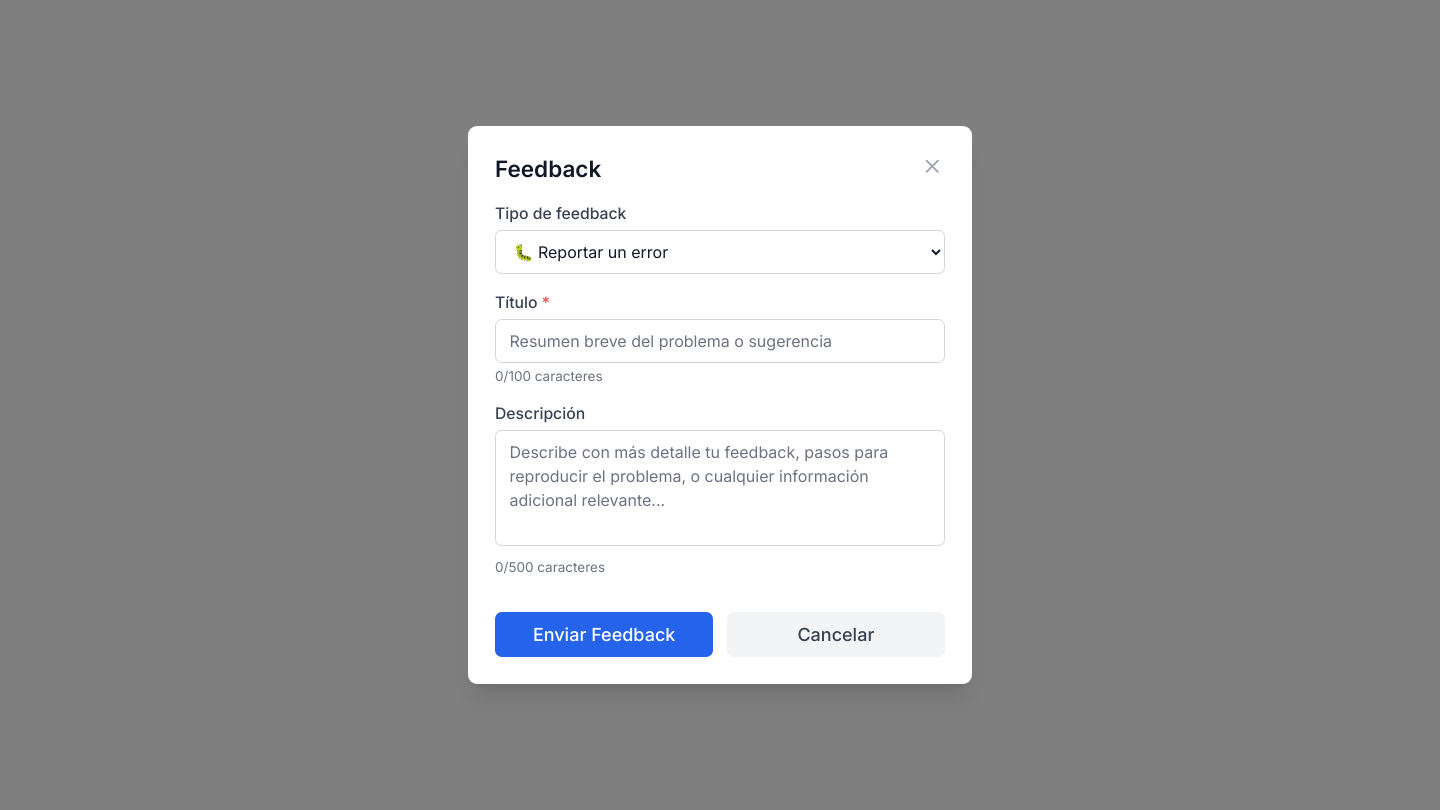
Test: FeedbackModal Integration Tests › Error handling flow › should handle unexpected errors gracefully
Expected: the button "Enviar Feedback" is shown, [495,612,713,657]
Type "Test Title" into the field labelled "Título *". click: [720, 341]
box: [495,319,945,363]
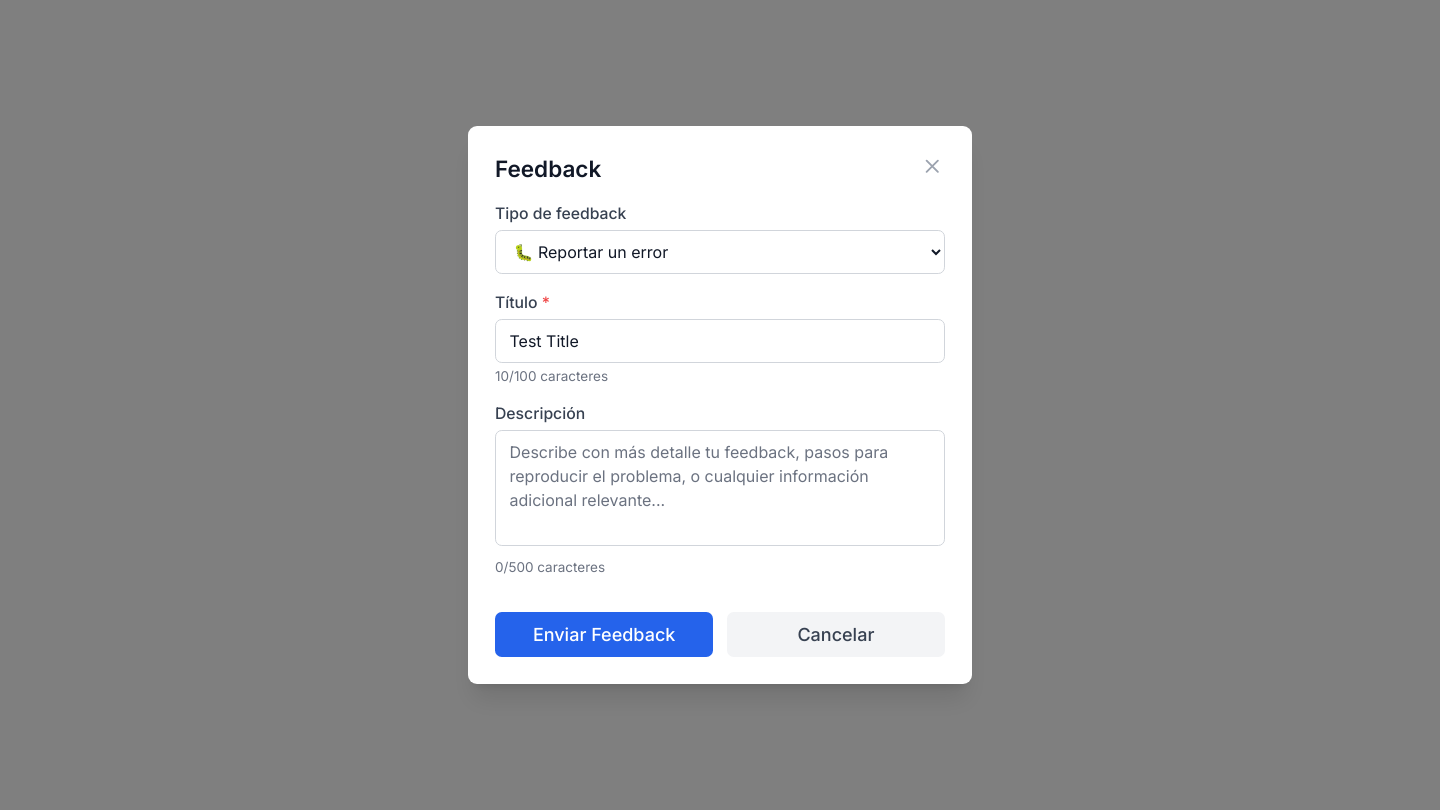
Replace the text in the text box labelled "Descripción" with "Test description". click: [720, 488]
box: [495,430,945,546]
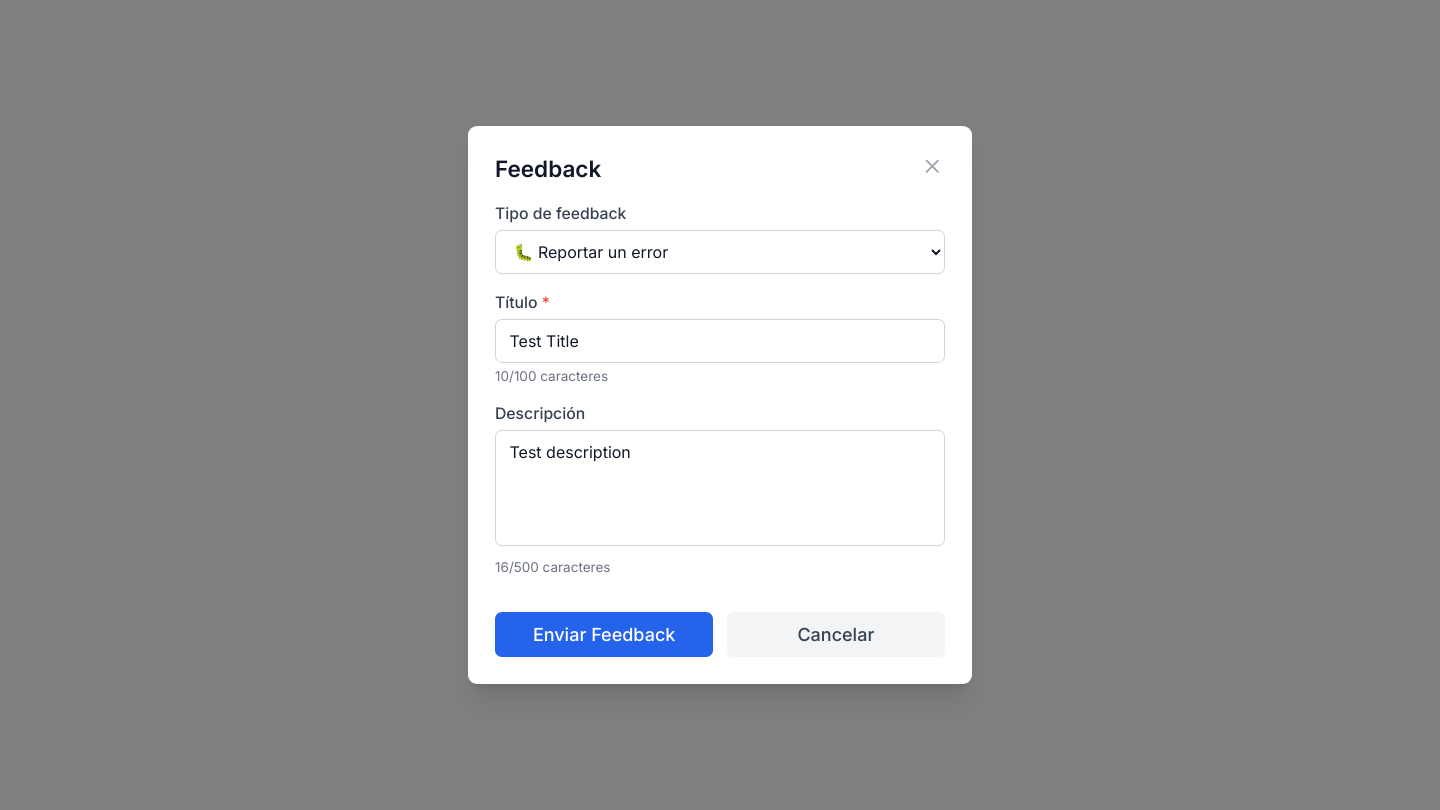
Submit form
Click the button "Enviar Feedback". click: [604, 634]
box: [495,612,713,657]
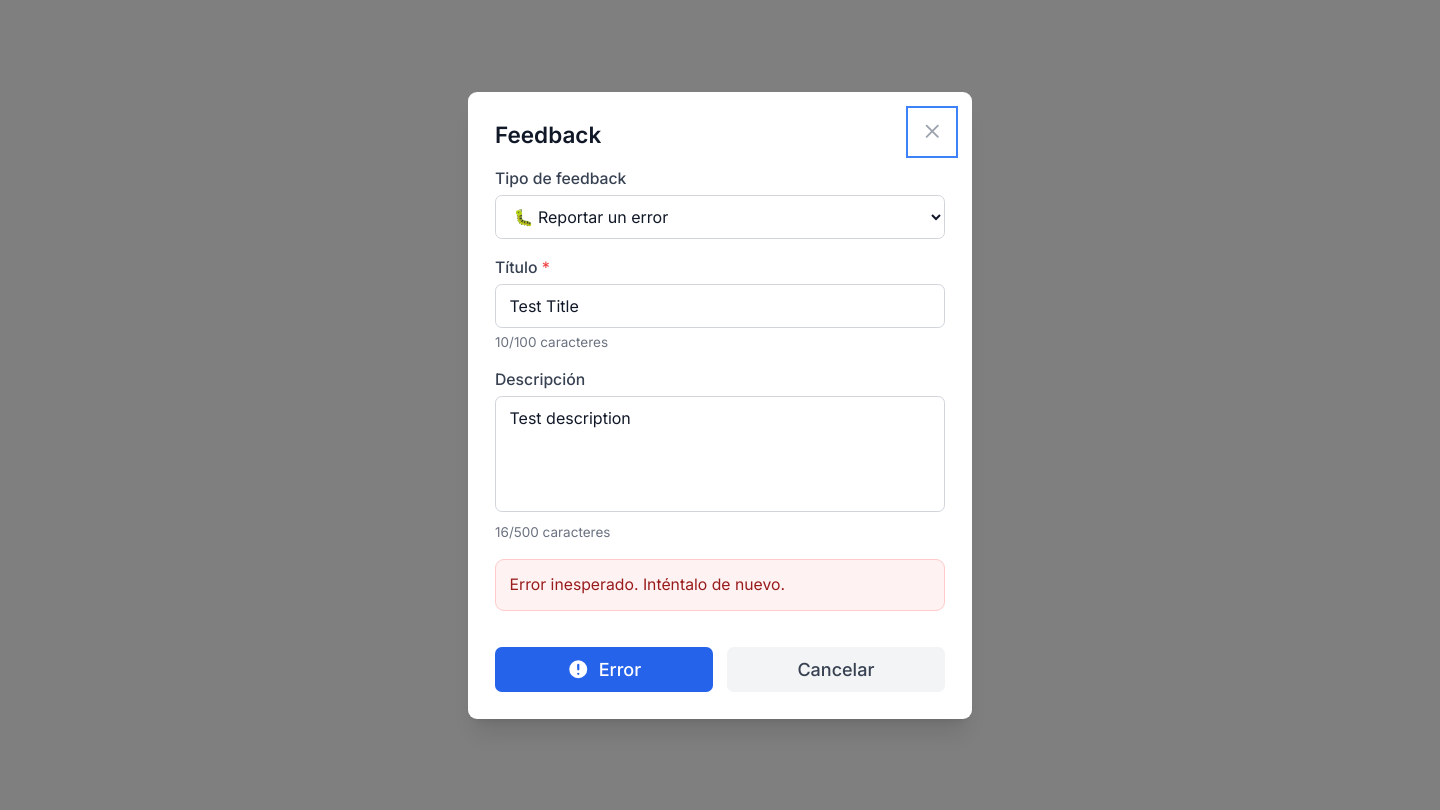
Expected: the text "Error inesperado. Inténtalo de nuevo." is shown, [495,559,945,610]
Expected: the button "Error" is shown, [495,646,713,692]
